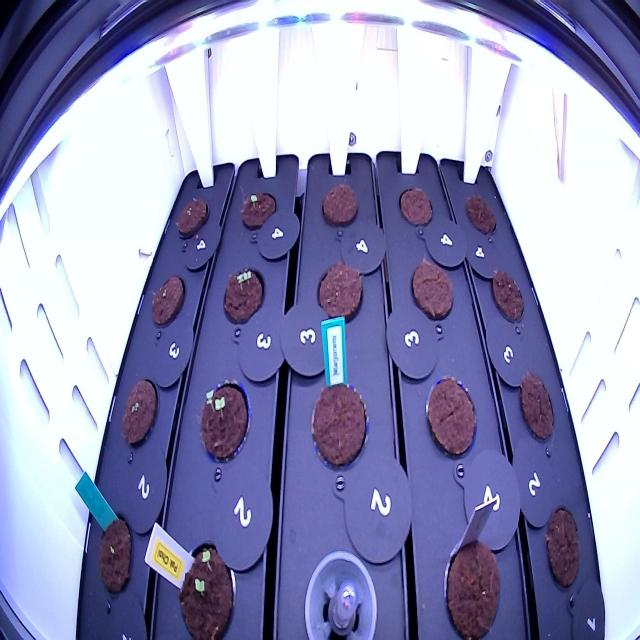germination: (174, 534, 242, 640), (195, 373, 254, 472), (116, 373, 165, 456), (220, 260, 268, 335), (236, 184, 279, 237)
pod: (436, 534, 507, 640), (308, 374, 371, 479), (419, 365, 479, 468), (312, 254, 367, 335), (541, 498, 583, 602), (406, 249, 458, 332), (94, 512, 138, 608), (515, 359, 557, 454), (486, 259, 530, 333), (317, 173, 363, 236), (148, 268, 188, 331), (396, 180, 439, 236), (174, 190, 213, 244), (460, 190, 502, 238)
